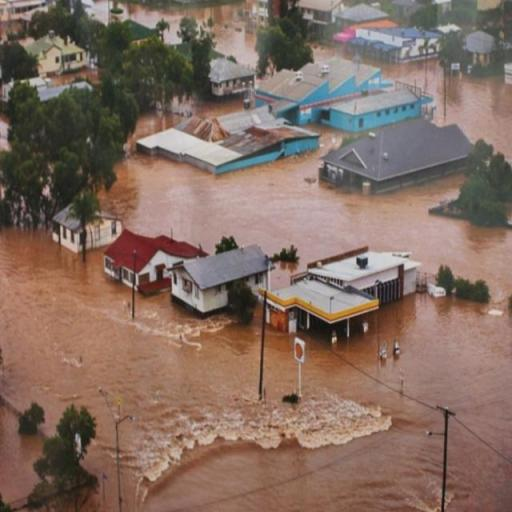flood: (100, 113, 512, 512), (0, 231, 260, 512), (124, 394, 392, 483), (377, 59, 512, 161), (119, 1, 258, 68), (0, 404, 44, 504), (268, 329, 297, 400)
house: (136, 106, 322, 178), (283, 249, 424, 329), (331, 118, 468, 197), (264, 268, 386, 353), (101, 224, 192, 298), (178, 245, 268, 318), (260, 56, 386, 100), (329, 83, 423, 133), (356, 23, 446, 63), (57, 206, 123, 256), (26, 29, 89, 74)
